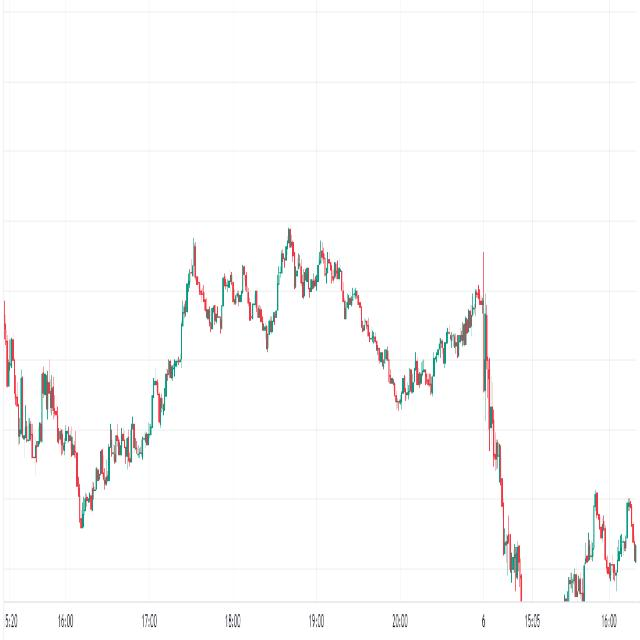Rounding-Bottom: (46, 362, 167, 542), (352, 280, 478, 413)
